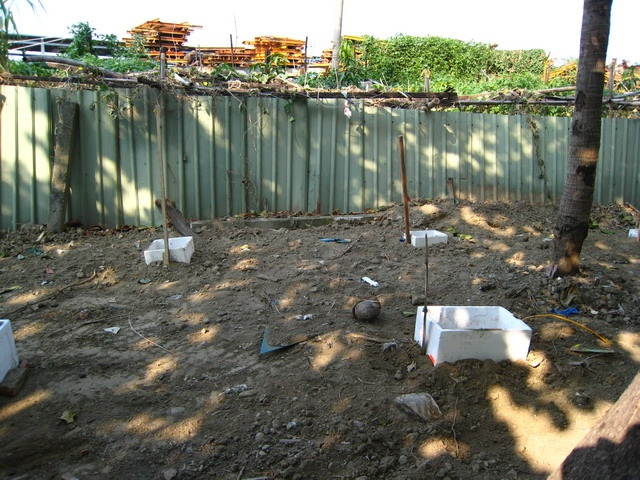styrofoam: (413, 304, 533, 367), (143, 235, 196, 265), (403, 228, 449, 248)
